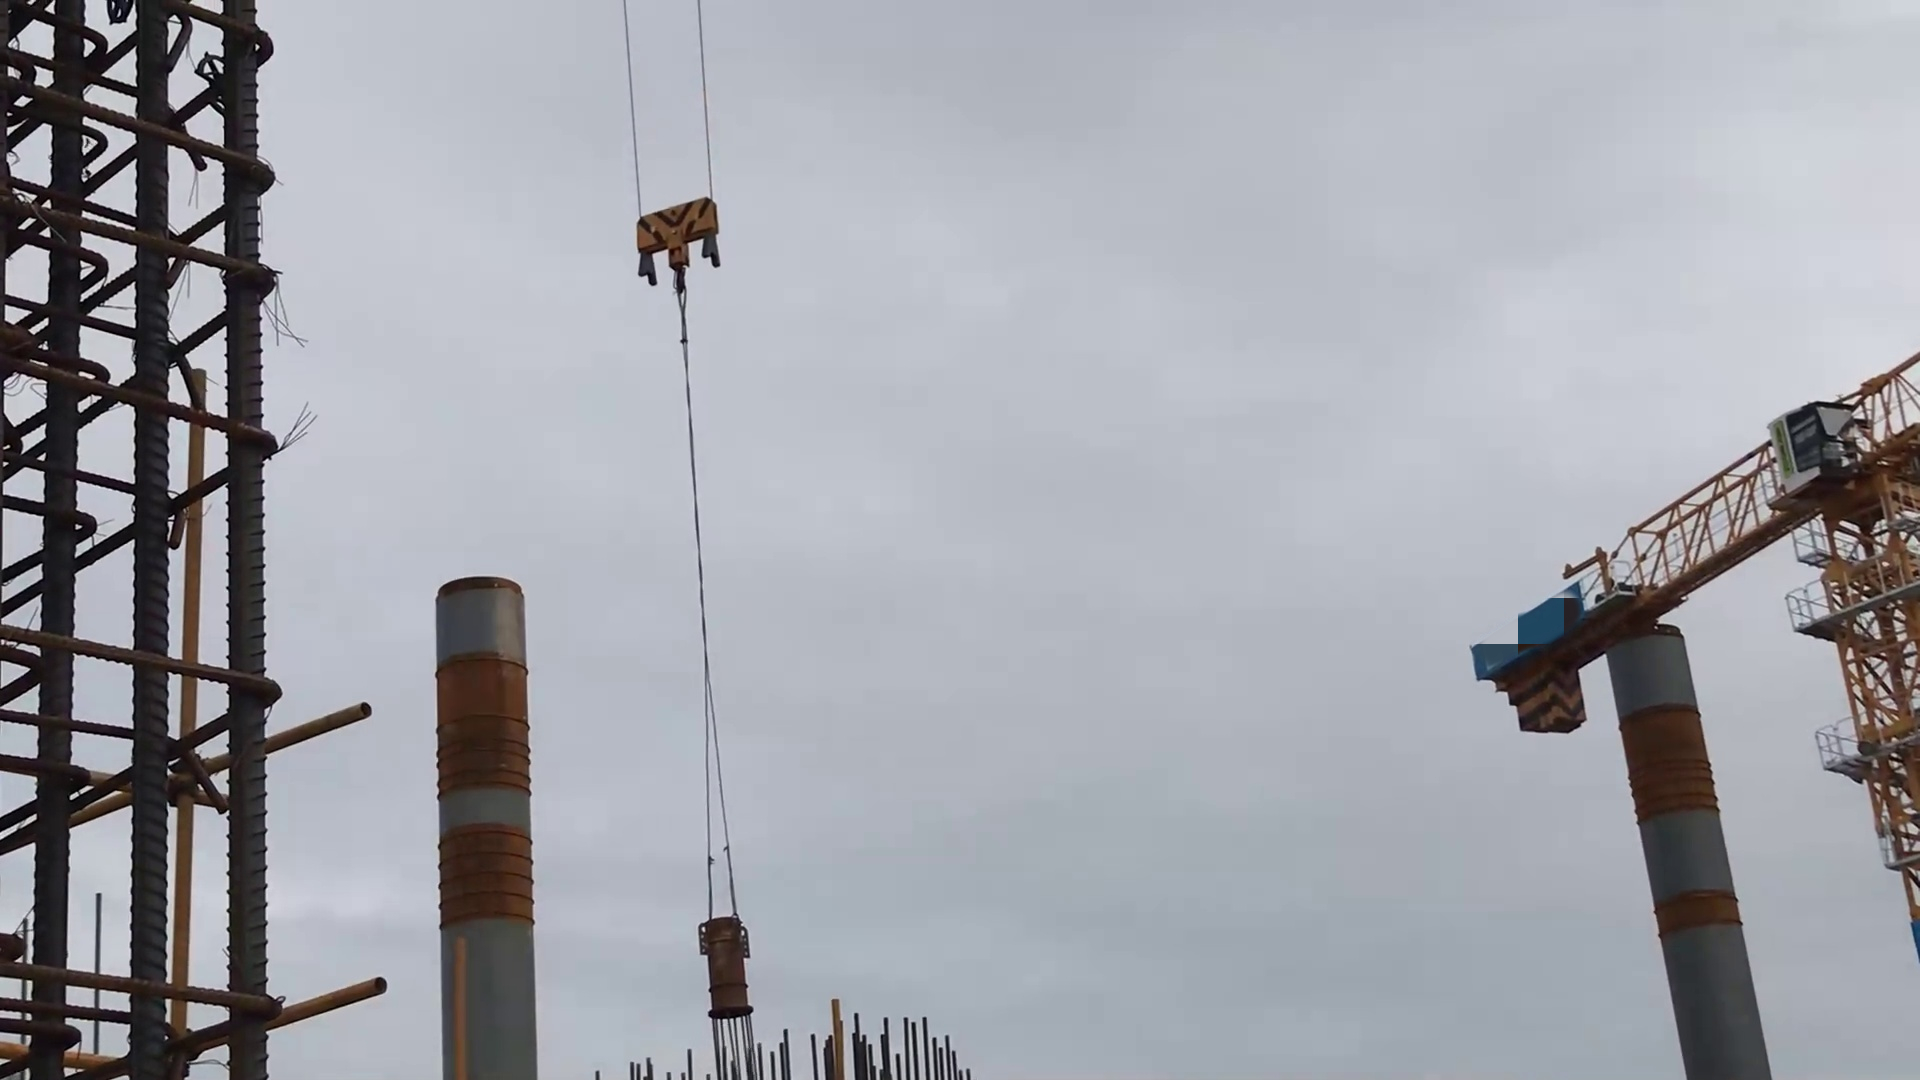hook: (633, 199, 723, 280)
